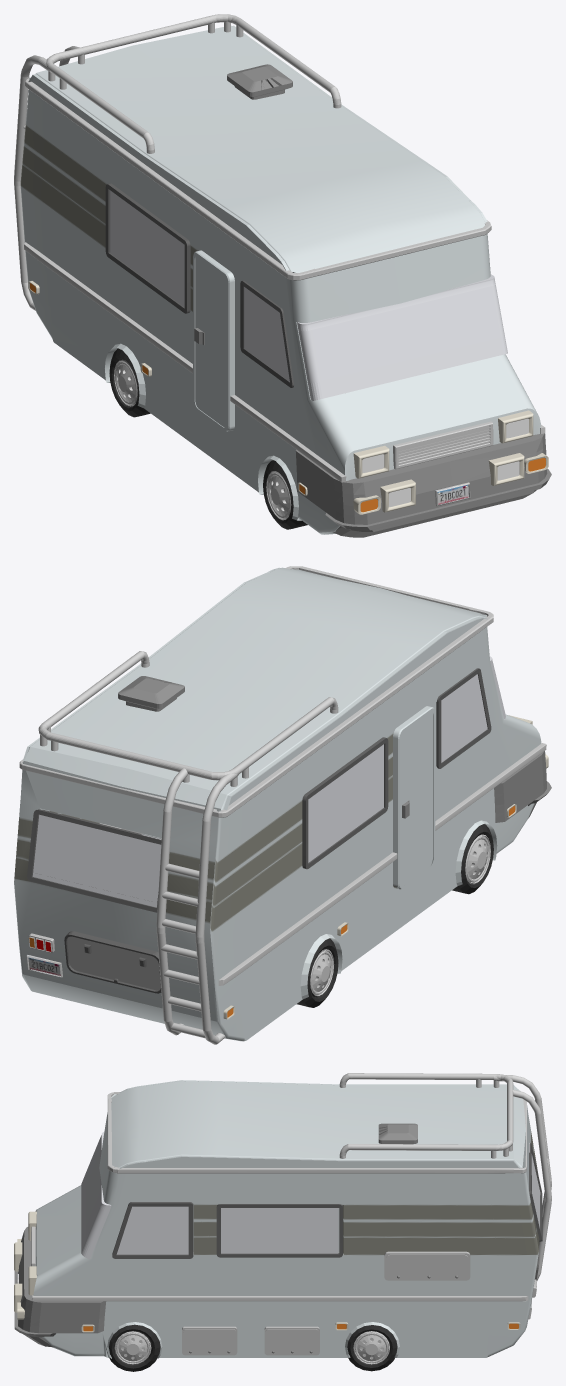
The model's file is VAN2.fbx.
3 views of the same model, one above another, from view 1: azimuth 30°, elevation 25°; view 2: azimuth 150°, elevation 25°; view 3: azimuth 270°, elevation 25° (orthographic). The views are drawn at different scales.
Parts seen in each view (by area): view 1: polySurface148, polySurface127, polySurface193, polySurface142, polySurface194, polySurface137, polySurface172, polySurface144, polySurface121, polySurface186, polySurface116, polySurface192 (+10 smaller); view 2: polySurface148, polySurface169, polySurface142, polySurface194, polySurface137, polySurface172, polySurface190, polySurface144, polySurface116, polySurface121, polySurface114, polySurface193 (+9 smaller); view 3: polySurface148, polySurface108, polySurface193, polySurface146, polySurface137, polySurface132, polySurface172, polySurface138, polySurface127, polySurface159, polySurface161, polySurface118 (+9 smaller).
Part boxes in pixels (x1,y1,x2,y2): polySurface148: [20, 25, 540, 534]; polySurface127: [297, 274, 507, 400]; polySurface193: [295, 433, 551, 537]; polySurface142: [193, 250, 234, 431]; polySurface194: [110, 190, 184, 307]; polySurface137: [25, 78, 491, 280]; polySurface172: [46, 14, 341, 153]; polySurface144: [24, 242, 346, 482]; polySurface121: [244, 287, 289, 381]; polySurface186: [393, 421, 493, 469]; polySurface116: [14, 55, 51, 310]; polySurface192: [105, 183, 190, 313]; polySurface148: [14, 567, 541, 1041]; polySurface169: [32, 814, 161, 907]; polySurface142: [393, 706, 435, 889]; polySurface194: [308, 744, 383, 862]; polySurface137: [19, 566, 493, 817]; polySurface172: [38, 651, 338, 780]; polySurface190: [64, 931, 161, 993]; polySurface144: [218, 743, 546, 985]; polySurface116: [195, 773, 238, 1044]; polySurface121: [441, 674, 487, 762]; polySurface114: [156, 768, 187, 1035]; polySurface193: [494, 751, 551, 822]; polySurface148: [33, 1080, 539, 1358]; polySurface108: [221, 1208, 338, 1253]; polySurface193: [14, 1227, 106, 1347]; polySurface146: [116, 1206, 188, 1254]; polySurface137: [107, 1092, 526, 1173]; polySurface132: [31, 1295, 528, 1301]; polySurface172: [339, 1073, 513, 1158]; polySurface138: [384, 1251, 470, 1280]; polySurface127: [81, 1132, 111, 1259]; polySurface159: [264, 1326, 319, 1355]; polySurface161: [182, 1326, 237, 1355]; polySurface118: [216, 1204, 342, 1257].
Size of the model in its own units: 3185 by 4163 by 8935.
Materials: 12 (2 with a texture image).
